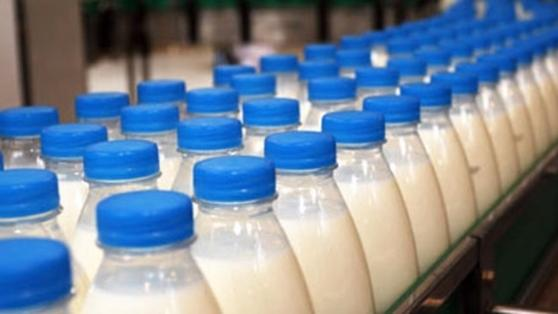milk: (329, 105, 418, 304)
